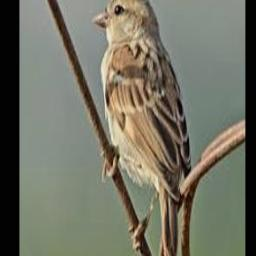Sparrow: (92, 0, 191, 256)
